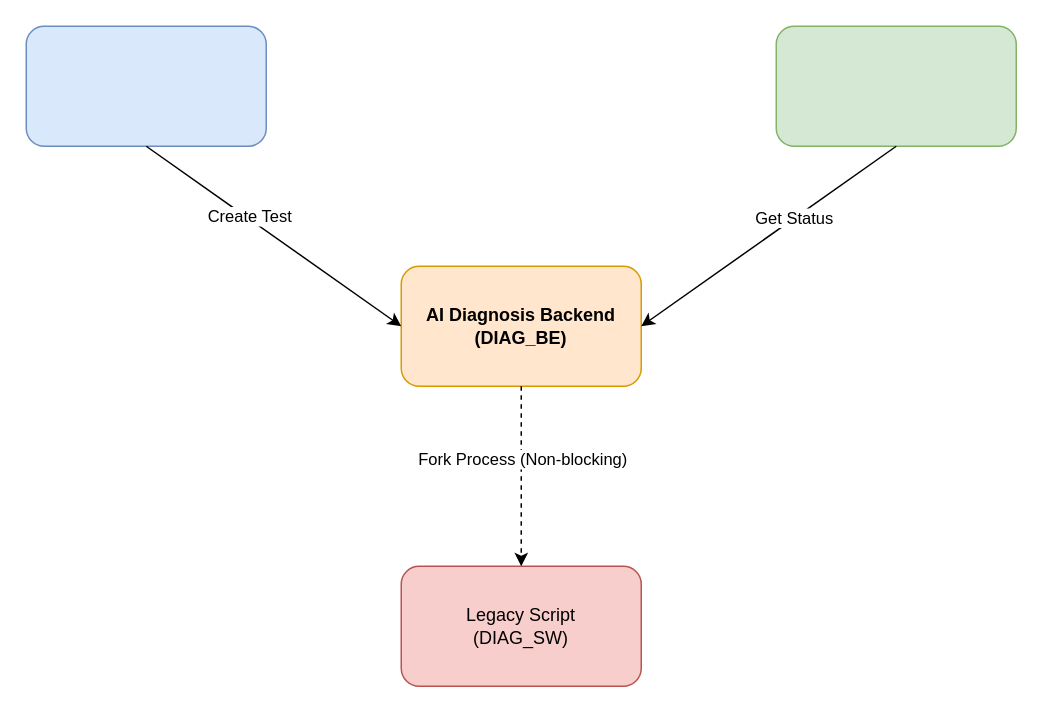
Image size: 1043x713. Some labels were removed from this diagram. Each missing label, with the centre of its shape:
Cable Assembly Assist System (VI_BE): (x=145, y=85)
Shop Floor System (SFC): (x=895, y=85)
